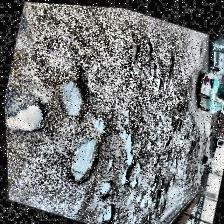pothole: (63, 130, 105, 188), (4, 96, 48, 140), (52, 74, 92, 120), (116, 129, 140, 165), (16, 6, 32, 40), (88, 113, 110, 135), (96, 200, 116, 224), (96, 176, 114, 198), (117, 162, 131, 186)
